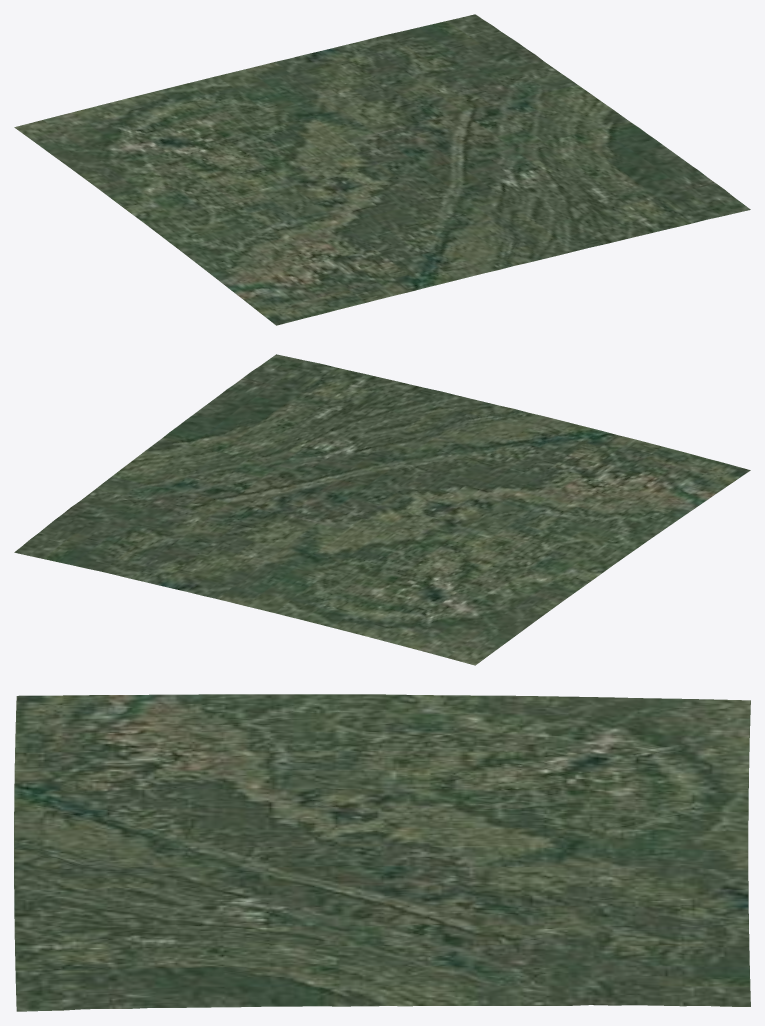
3 renders of one model, top to bottom at view 1: azimuth 30°, elevation 25°; view 2: azimuth 150°, elevation 25°; view 3: azimuth 270°, elevation 25°, orthographic. The views are drawn at different scales.
Bounding box in the file's own units: 258878 × 2965 × 255050.
1 material, 1 textured.
